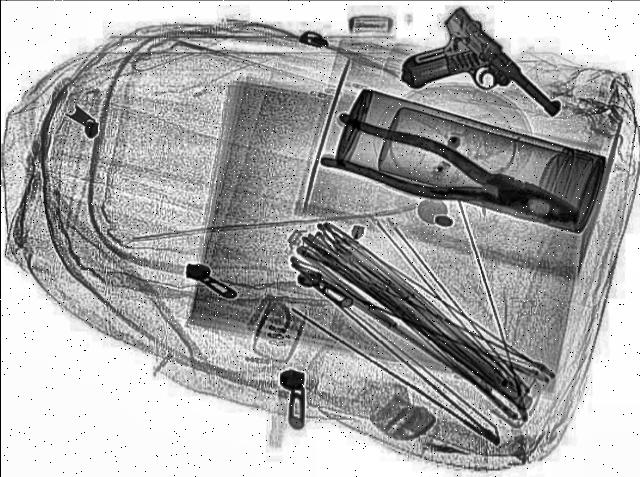Gun: (370, 6, 570, 155)
Pliers: (310, 114, 598, 243)
